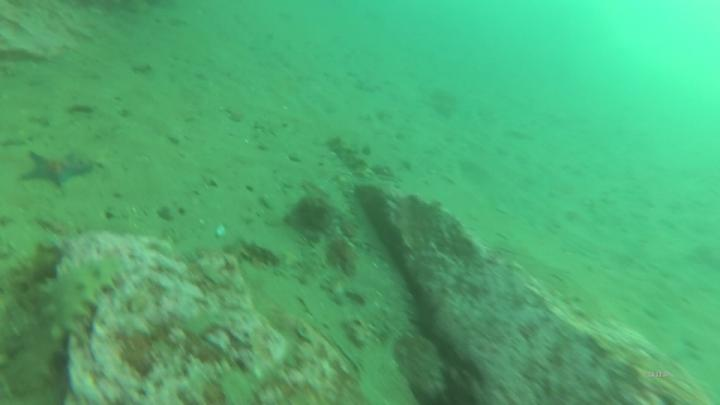holothurian: (34, 254, 126, 346)
starfish: (23, 149, 96, 191)
